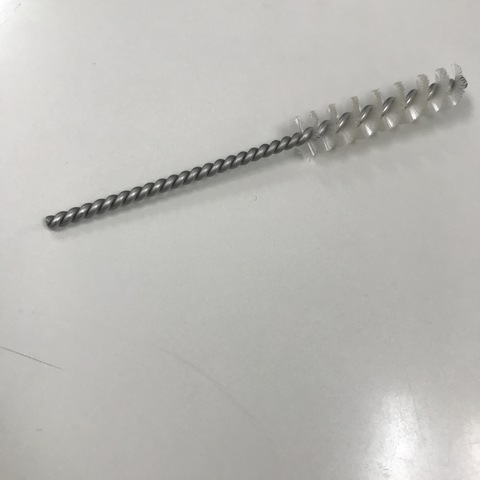Twist Brush-B: (44, 63, 472, 229)
